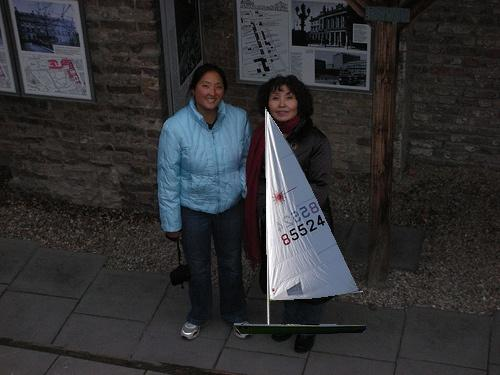tampered: (235, 108, 367, 334)
